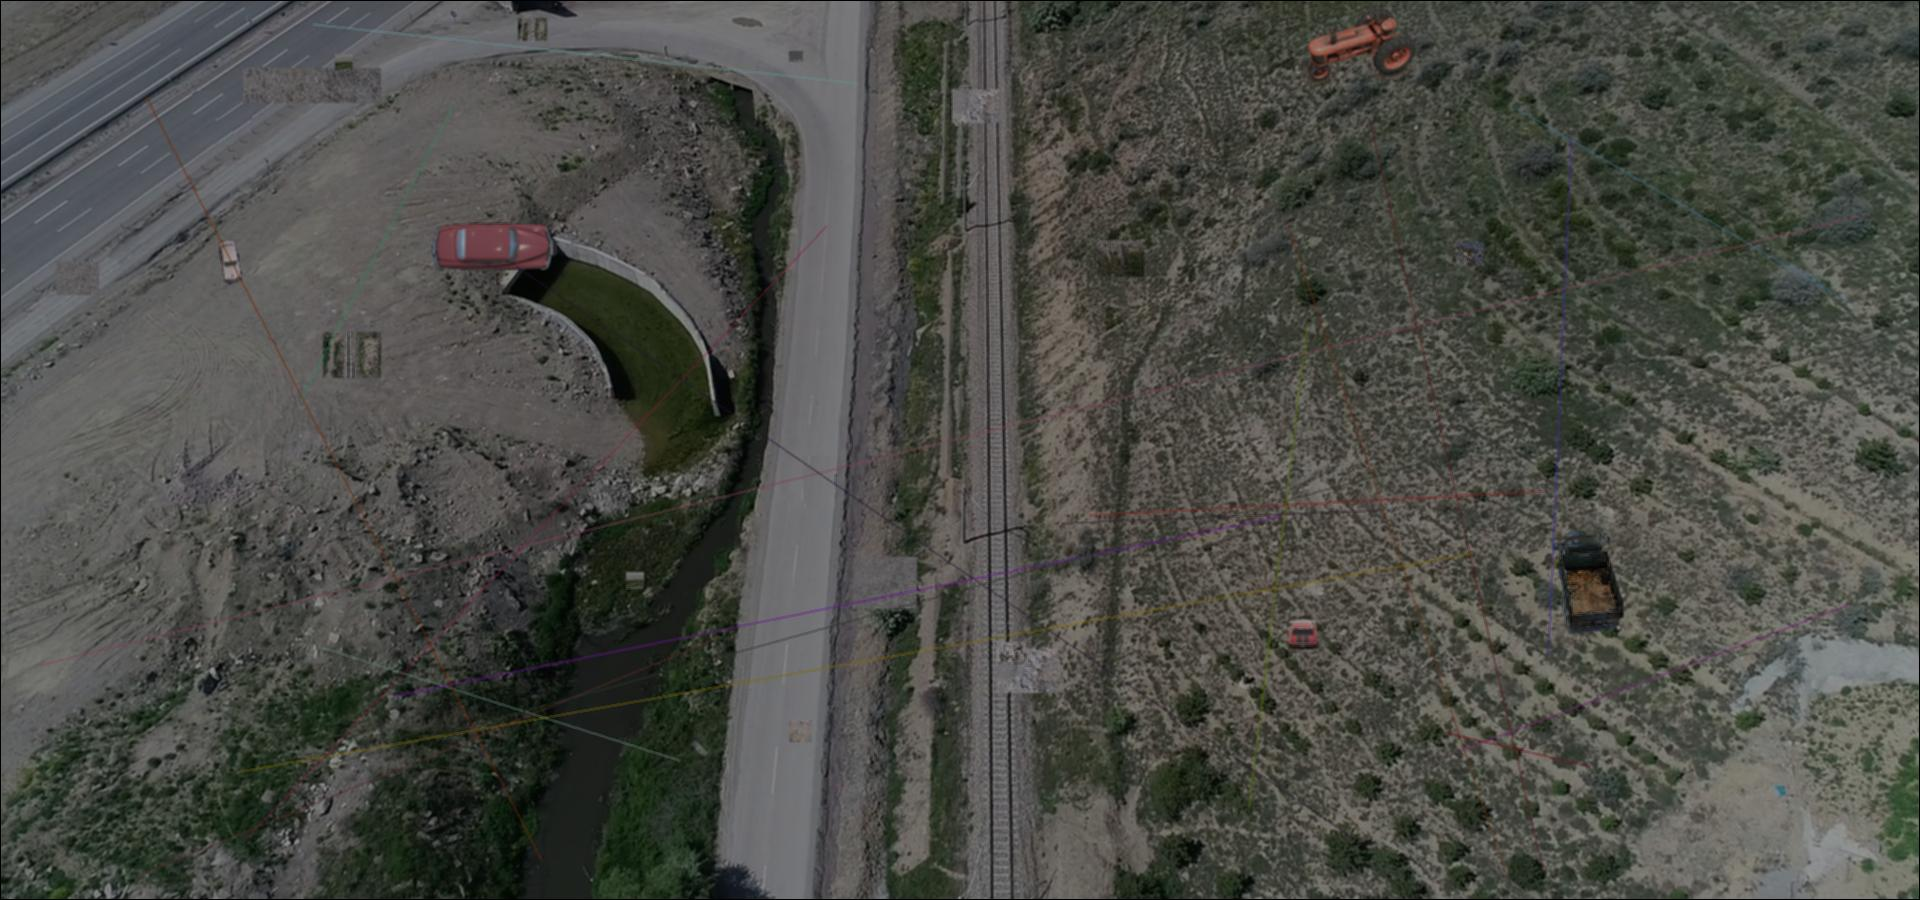arac: (1300, 7, 1420, 84), (1548, 530, 1626, 634), (432, 219, 558, 274), (216, 239, 245, 284), (1284, 617, 1319, 649)
